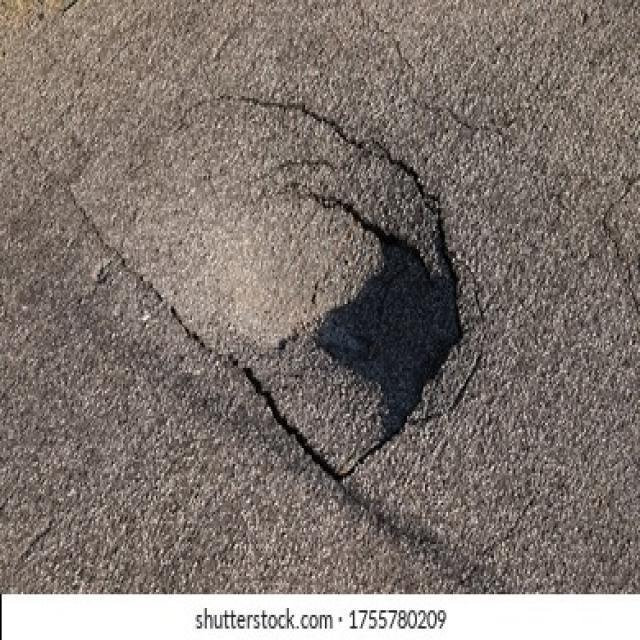Pothole: (69, 95, 469, 482)
